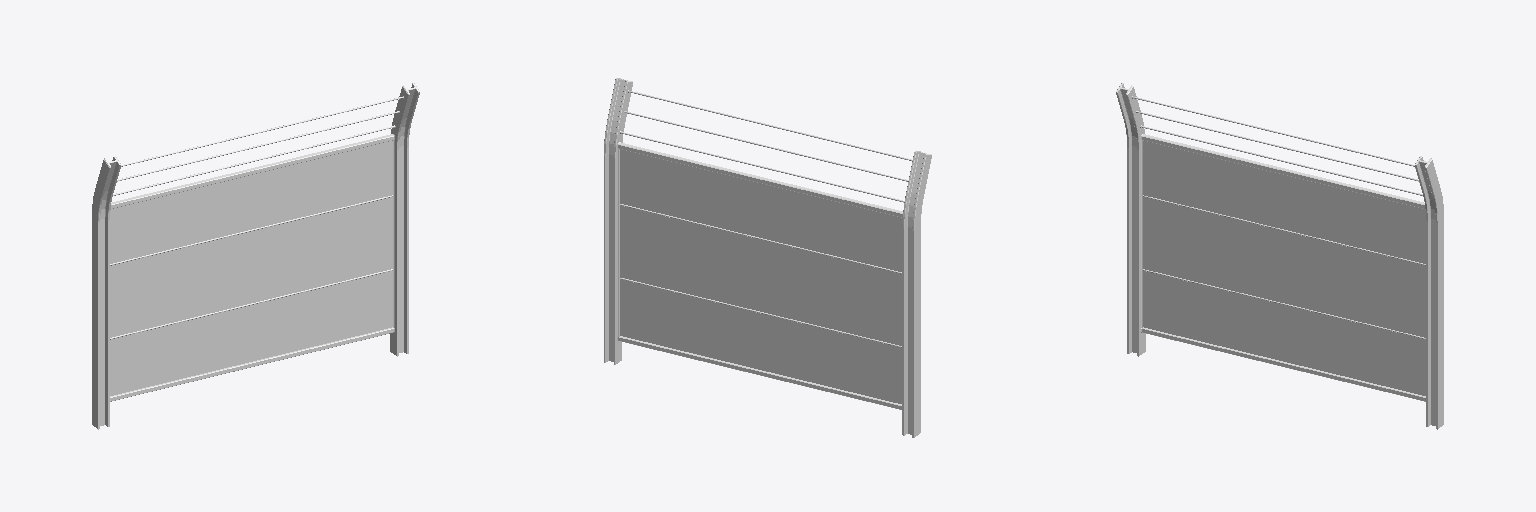
File: fence.obj
The picture shows the model from 3 angles: view 1: azimuth 30°, elevation 25°; view 2: azimuth 150°, elevation 25°; view 3: azimuth 330°, elevation 25°; orthographic projection.
Parts seen in each view (by area): view 1: Metal_Fence_3D; view 2: Metal_Fence_3D; view 3: Metal_Fence_3D.
Boxes of the visible parts, <box> form: Metal_Fence_3D: <box>92,83,419,429</box>; Metal_Fence_3D: <box>604,78,931,437</box>; Metal_Fence_3D: <box>1116,83,1443,429</box>.
Bounding box in the file's own units: 2.44 × 2.06 × 0.2464.